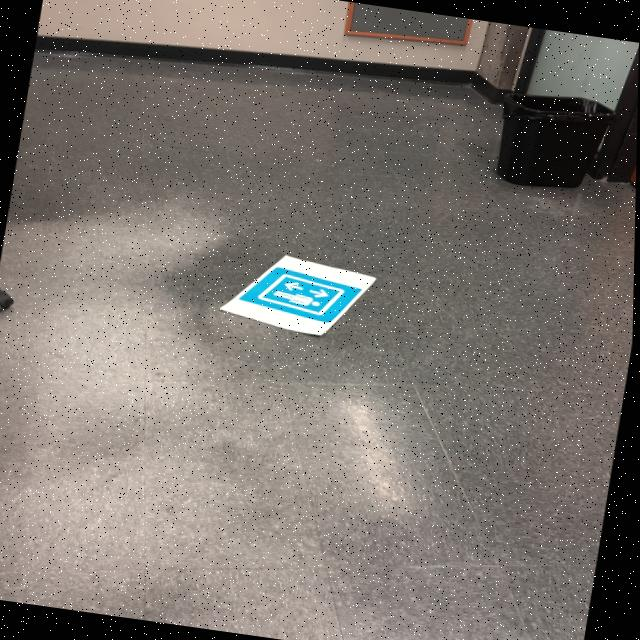elevator: (253, 264, 362, 322)
